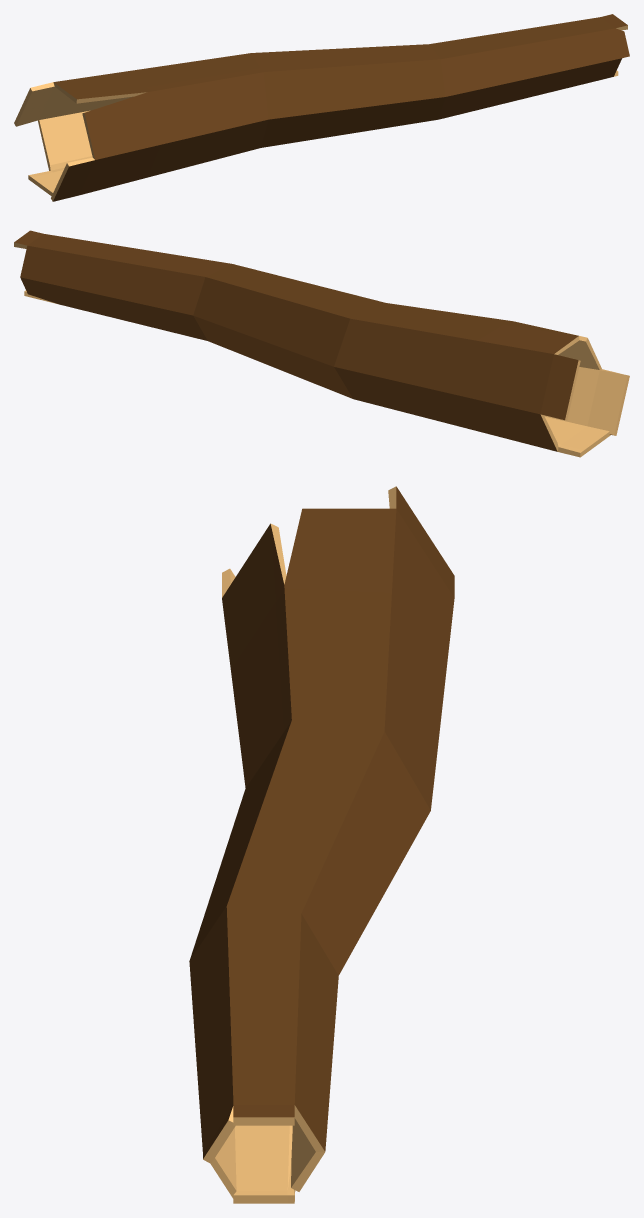
The model's file is TRONCO02.fbx.
3 views of the same model, one above another, from view 1: azimuth 30°, elevation 25°; view 2: azimuth 150°, elevation 25°; view 3: azimuth 270°, elevation 25° (orthographic). The views are drawn at different scales.
Parts seen in each view (by area): view 1: Circle.001; view 2: Circle.001; view 3: Circle.001.
Part boxes in pixels (box(x1,y1,x2,y2)): Circle.001: box(14, 14, 629, 201); Circle.001: box(14, 230, 629, 457); Circle.001: box(189, 486, 454, 1203).
Bounding box in the file's own units: 1239 × 193 × 252.
